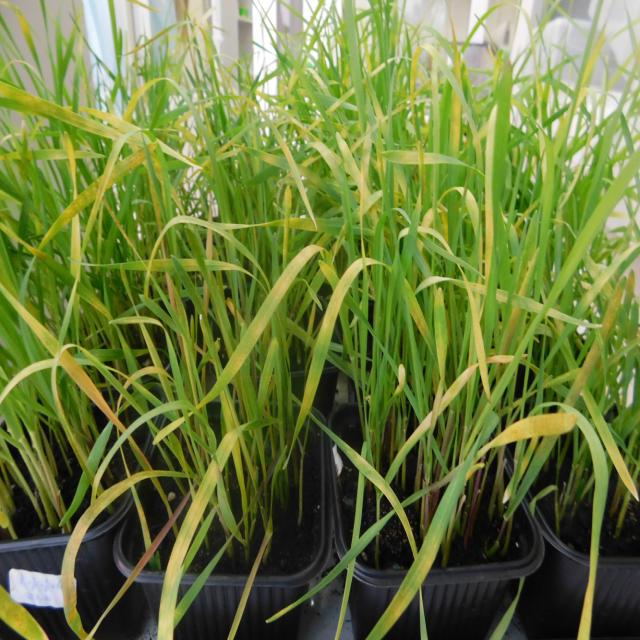wheat-yellowrust: (1, 284, 126, 433), (221, 244, 326, 386), (2, 80, 120, 138), (482, 413, 575, 450)
